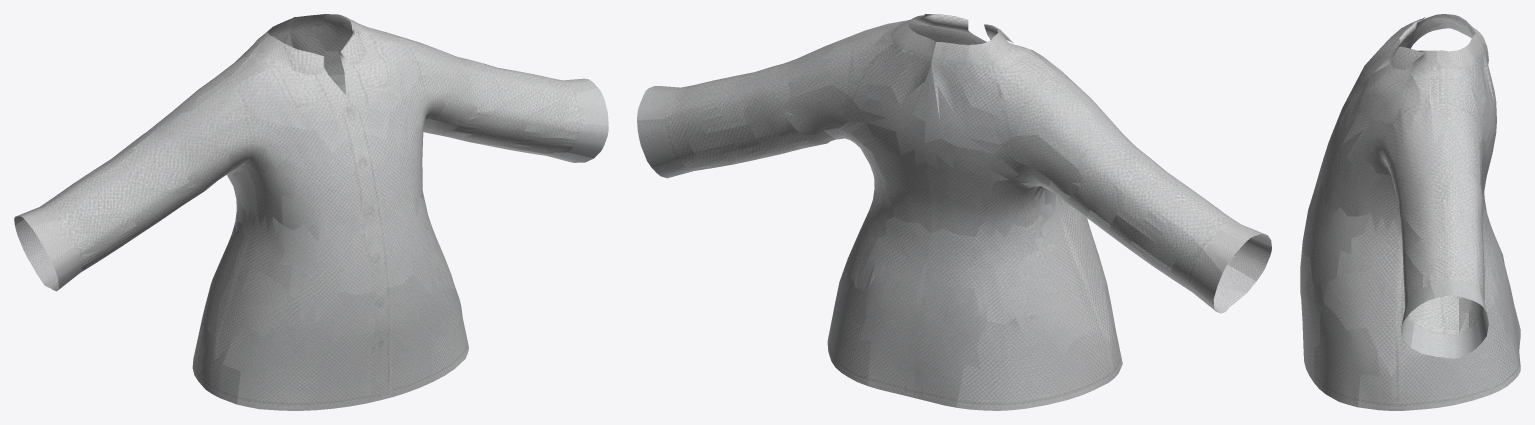
Rendered from collarShirt.glb.
3 renders of one model, left to right at view 1: azimuth 30°, elevation 25°; view 2: azimuth 150°, elevation 25°; view 3: azimuth 270°, elevation 25°, orthographic. The views are drawn at different scales.
Visible parts, largest first — view 1: CollarShirt; view 2: CollarShirt; view 3: CollarShirt.
Part boxes in pixels (box(x1,y1,x2,y2)): CollarShirt: box(14, 14, 608, 410); CollarShirt: box(637, 14, 1271, 410); CollarShirt: box(1300, 14, 1520, 410).
Bounding box in the file's own units: 16.62 × 9 × 5.58.
Materials: 1 (1 with a texture image).
